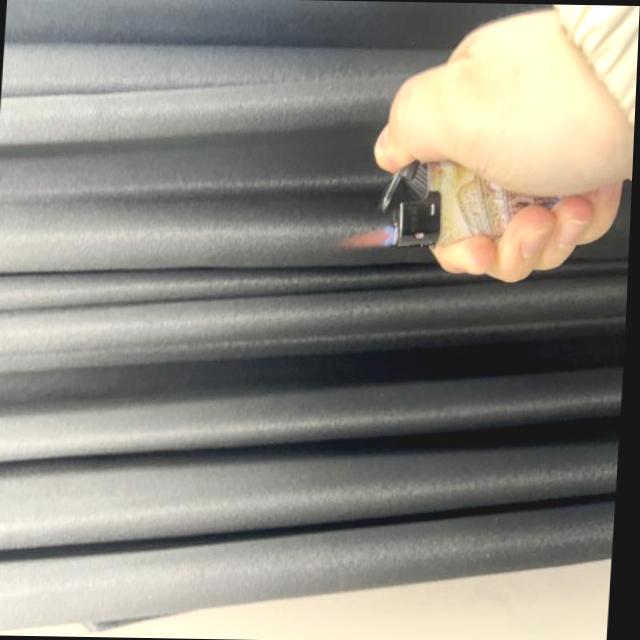Fire: (338, 224, 397, 250)
